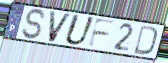2: (113, 23, 134, 54)
D: (133, 24, 159, 56)
F: (86, 17, 118, 49)
S: (21, 8, 48, 41)
U: (63, 13, 97, 47)
V: (47, 10, 73, 44)
